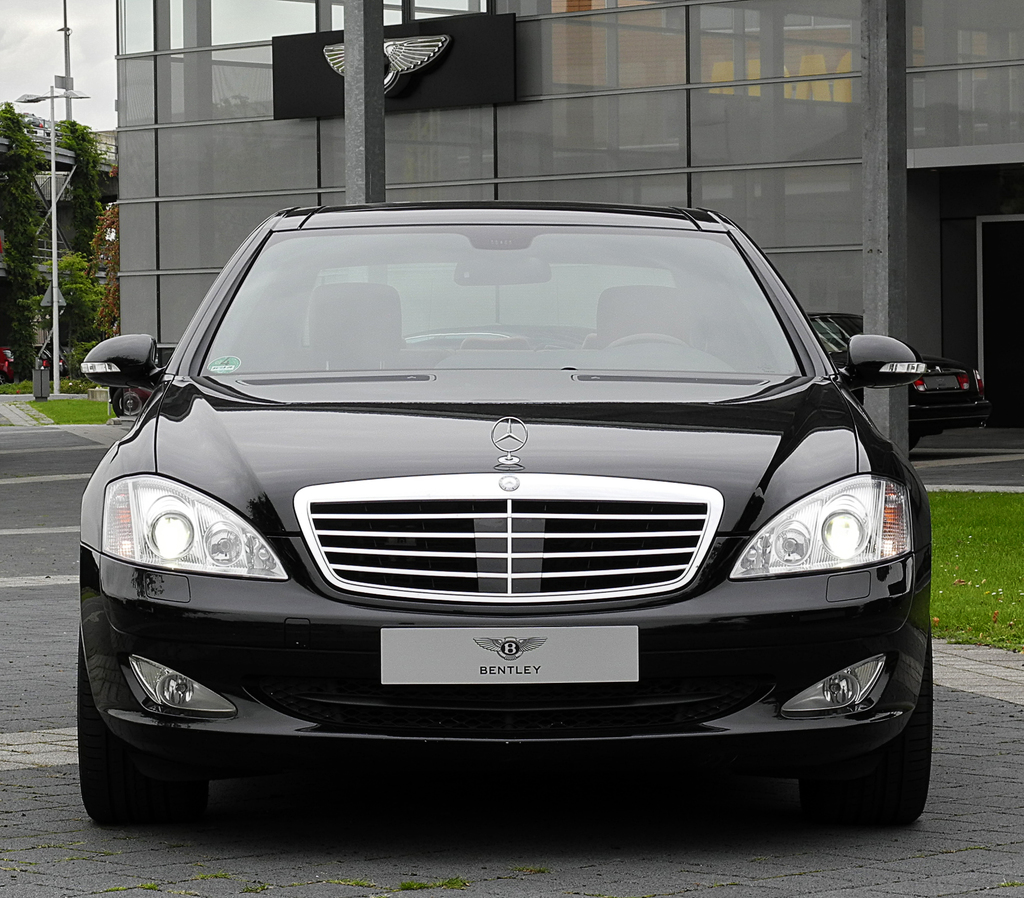Car: (72, 199, 934, 825), (805, 309, 991, 454)
